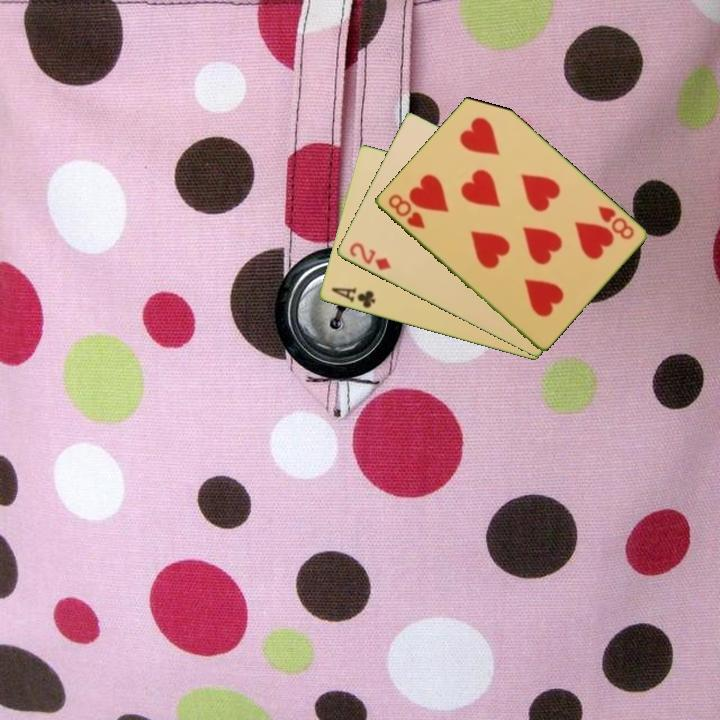2d: (345, 239, 394, 274)
8h: (384, 190, 428, 232), (594, 202, 637, 243)
Ac: (328, 284, 378, 311)
